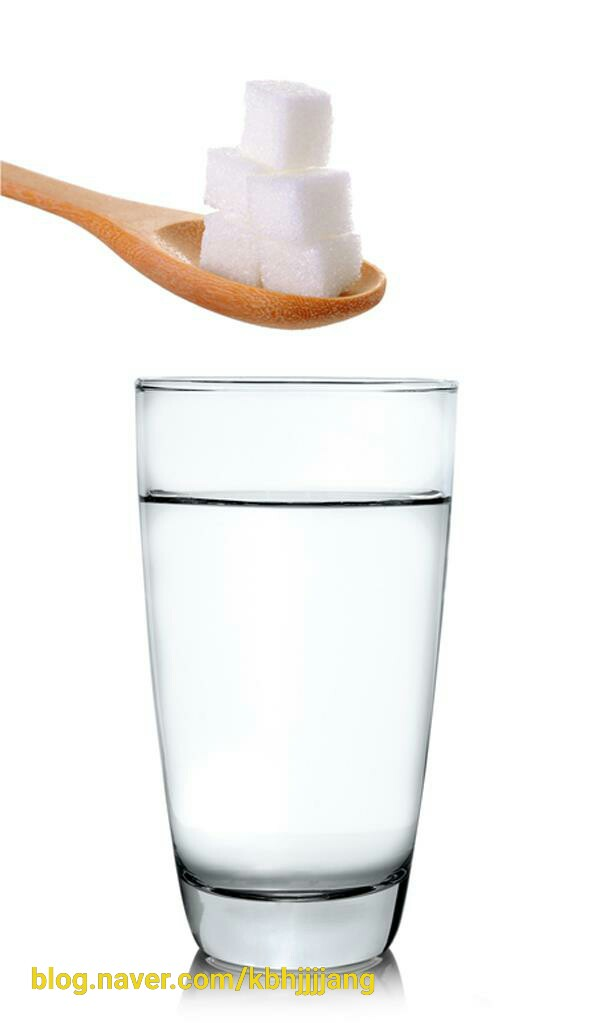glass of water: (114, 337, 471, 984)
